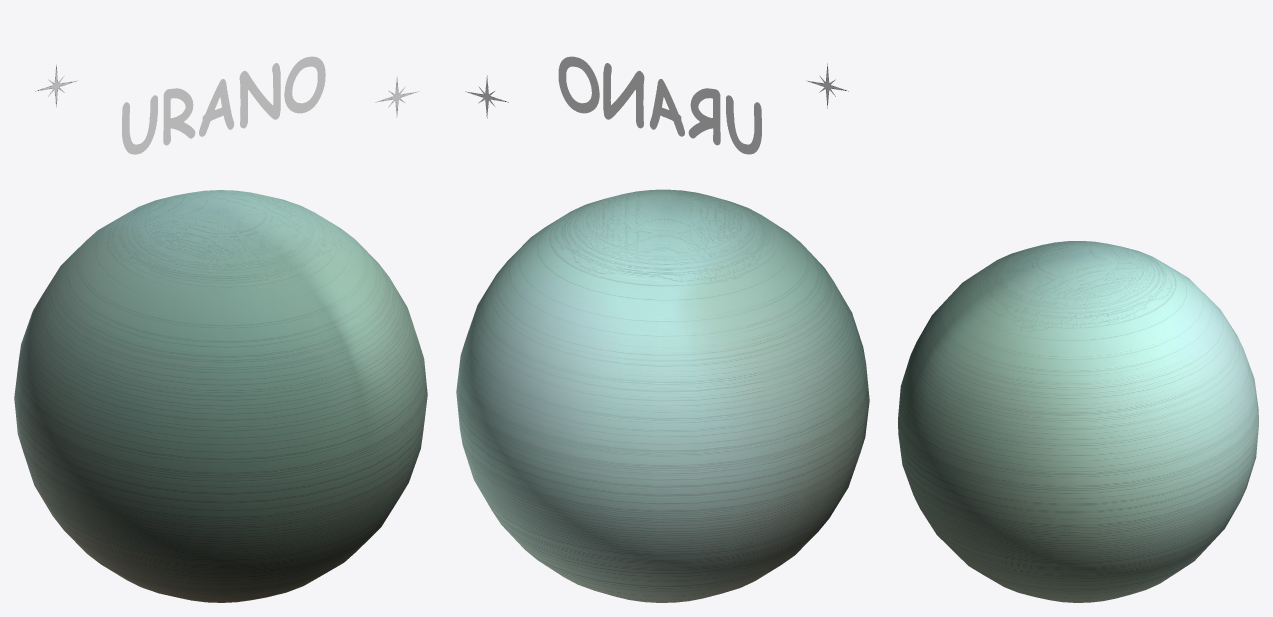
Rendered from urano.glb.
3 renders of one model, left to right at view 1: azimuth 30°, elevation 25°; view 2: azimuth 150°, elevation 25°; view 3: azimuth 270°, elevation 25°, orthographic. The views are drawn at different scales.
Parts seen in each view (by area): view 1: Terra.006, Letra; view 2: Terra.006, Letra; view 3: Terra.006.
Part boxes in pixels (x1,y1,x2,y2): Terra.006: (14,190,427,602); Letra: (122,56,325,154); Terra.006: (456,189,869,602); Letra: (558,56,761,154); Terra.006: (898,241,1258,602).
Size of the model in its own units: 1.4 by 1.95 by 1.3.
2 materials, 2 textured.
